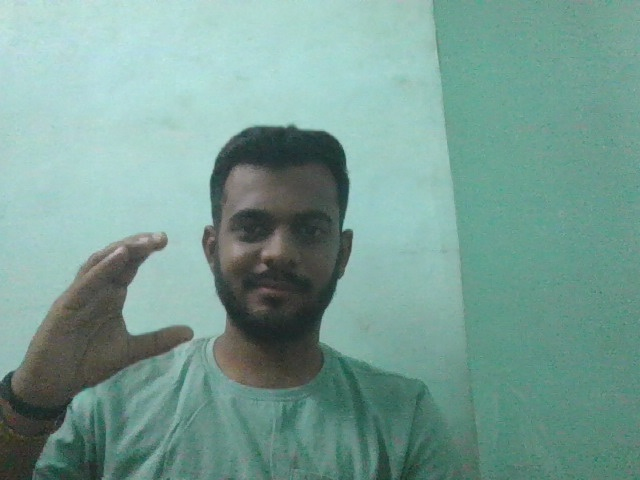no: (25, 217, 203, 404)
